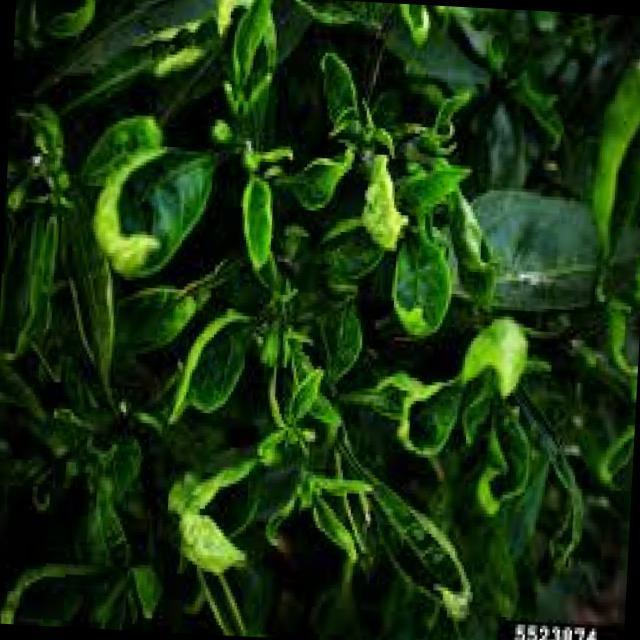Chilli_Leaf_Curl: (0, 0, 640, 640), (86, 136, 217, 281), (460, 182, 602, 314), (586, 43, 640, 267), (458, 311, 530, 400), (358, 150, 410, 252), (235, 170, 277, 274)
